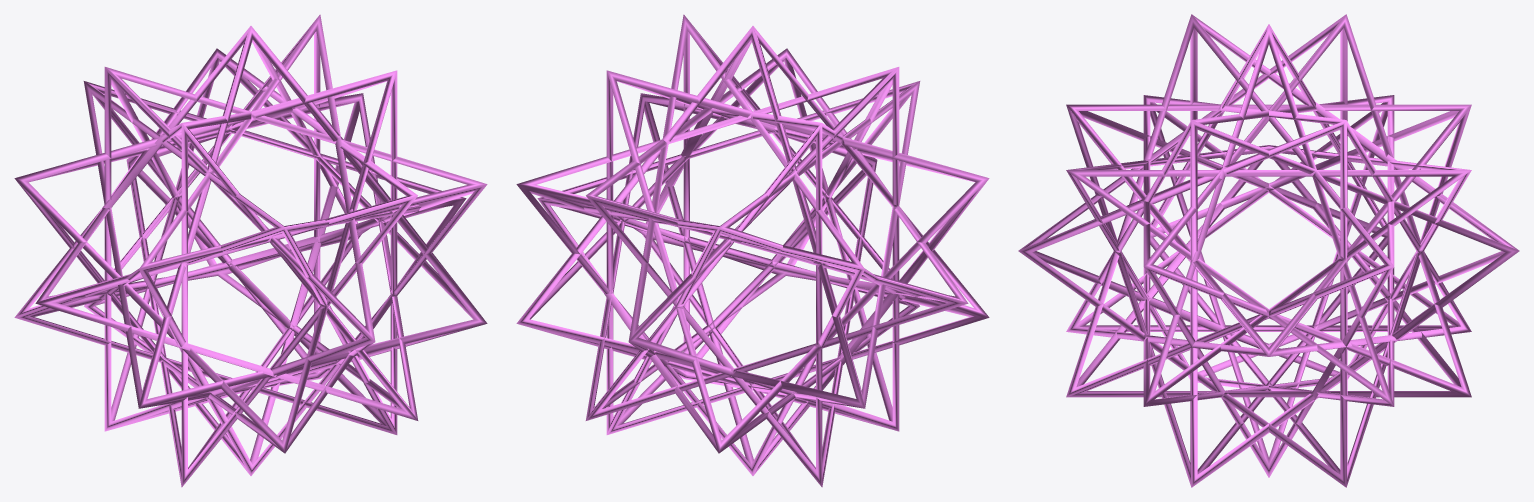
The model's file is GreatIcosidodecahedron2.glb.
3 renders of one model, left to right at view 1: azimuth 30°, elevation 25°; view 2: azimuth 150°, elevation 25°; view 3: azimuth 270°, elevation 25°, orthographic.
Visible parts, largest first — view 1: GreatIcosidodecahedron; view 2: GreatIcosidodecahedron; view 3: GreatIcosidodecahedron.
Part boxes in pixels (left/top/right/bottom): GreatIcosidodecahedron: left=14, top=14, right=487, bottom=487; GreatIcosidodecahedron: left=516, top=14, right=989, bottom=487; GreatIcosidodecahedron: left=1018, top=14, right=1519, bottom=487.
Size of the model in its own units: 1.26 by 1.26 by 1.26.
